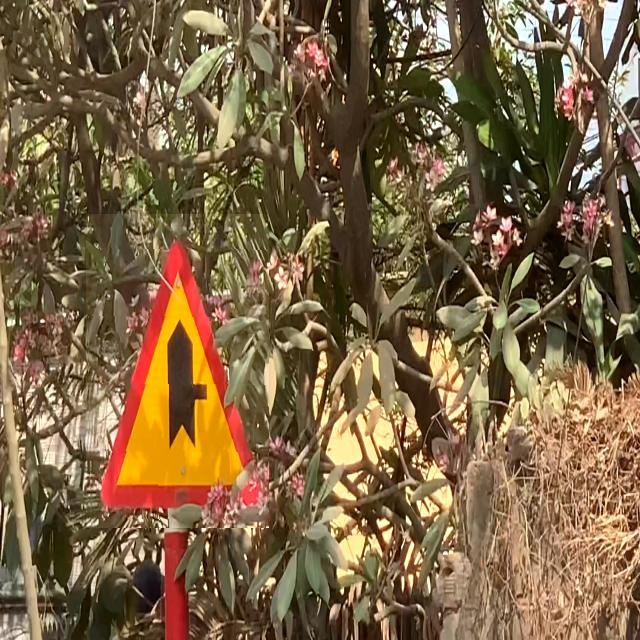bien_nguy_hiem: (86, 214, 269, 528)
